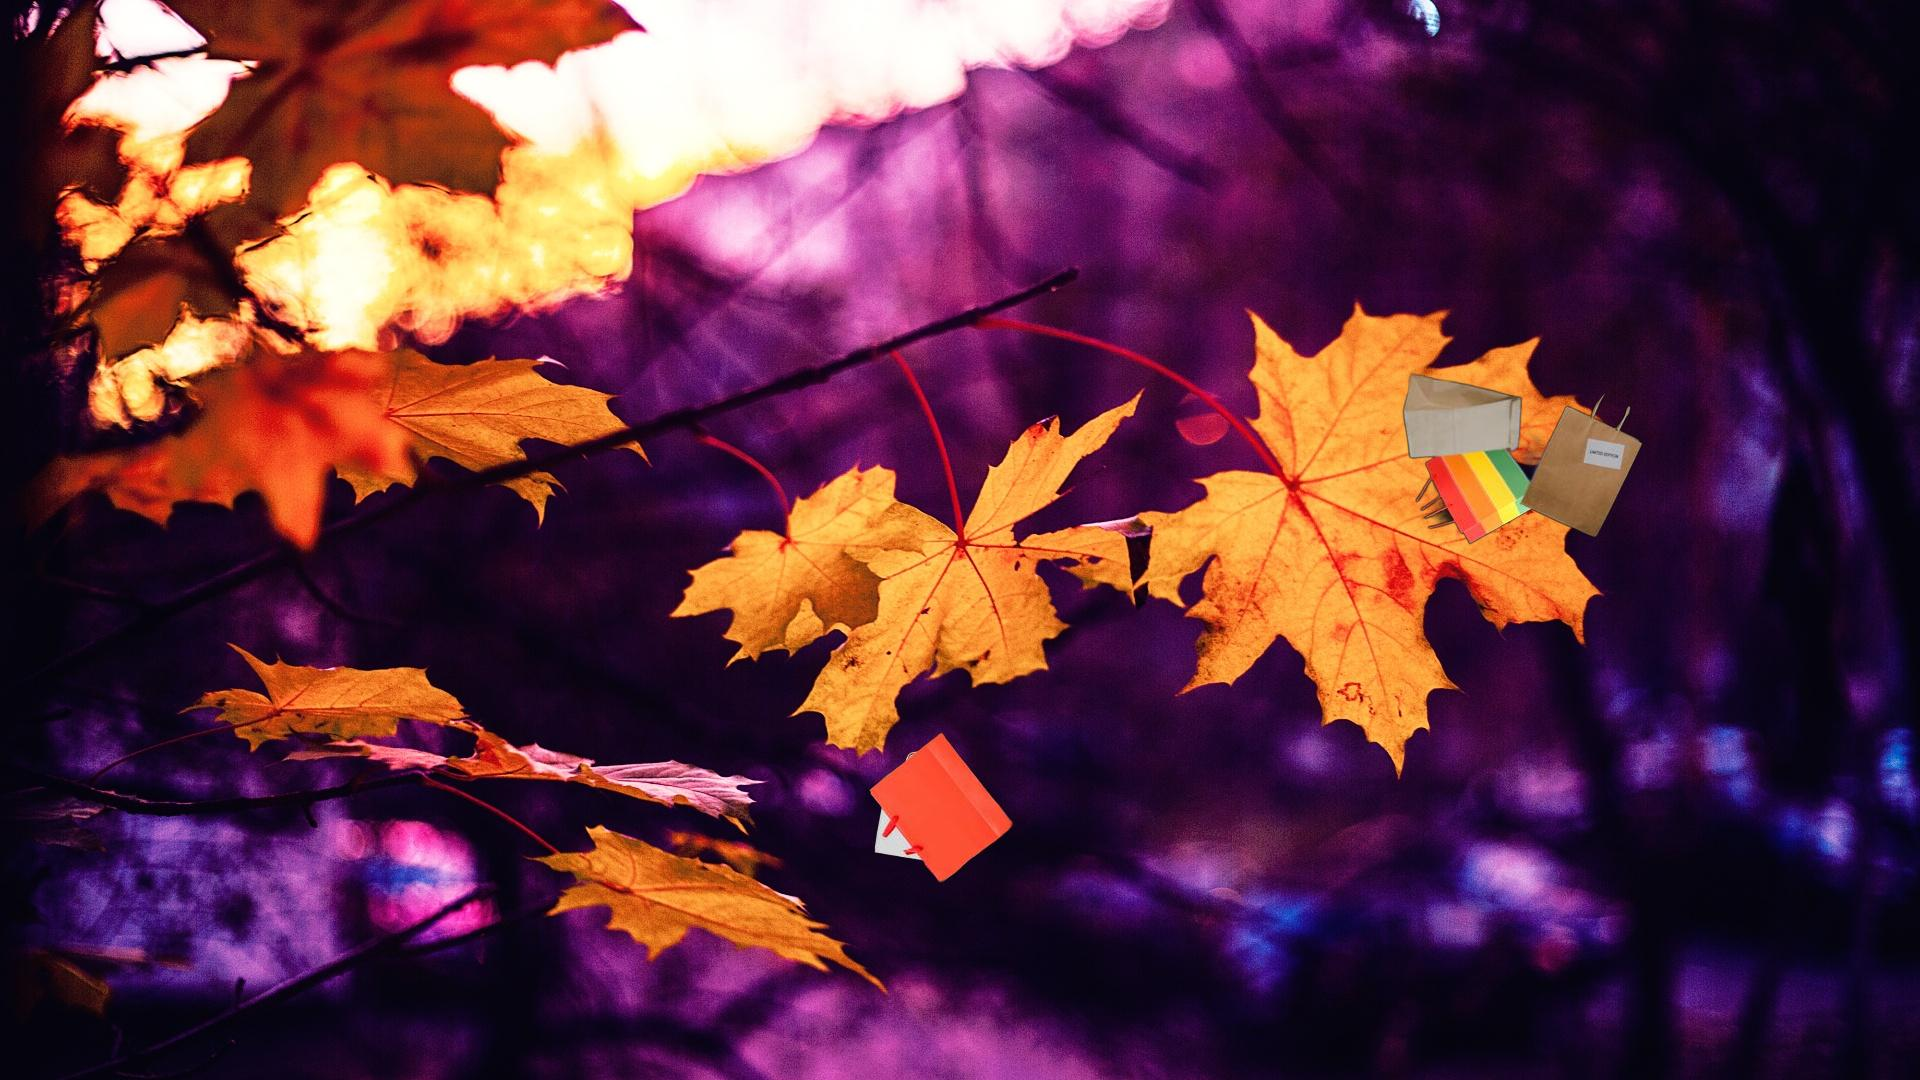paper-bag: (1400, 368, 1646, 545), (866, 729, 1019, 886)
